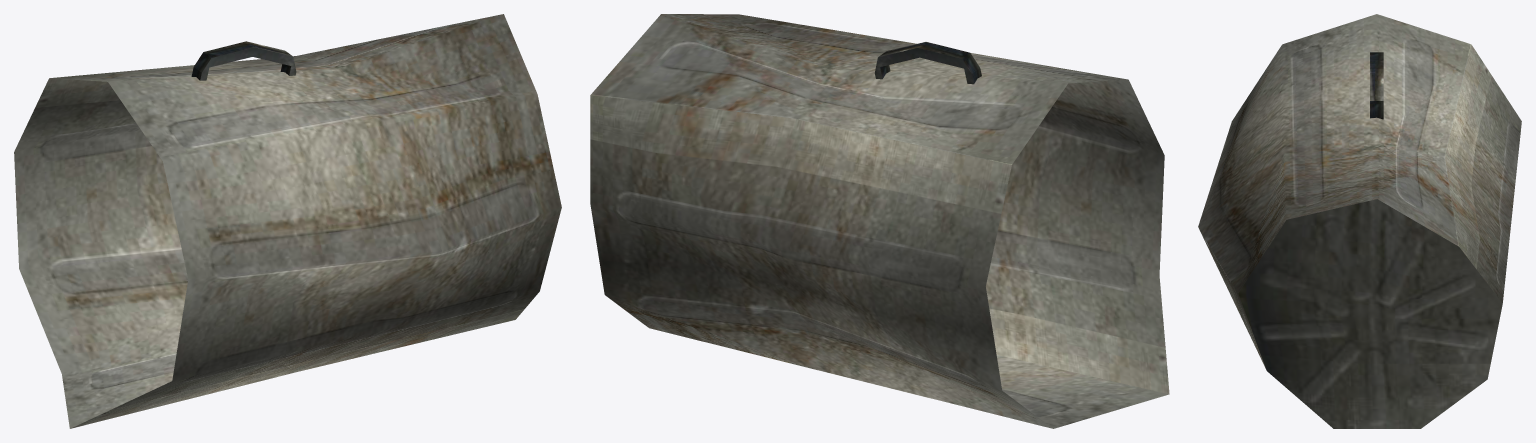
File: tonne2.obj
The picture shows the model from 3 angles, left to right: view 1: azimuth 30°, elevation 25°; view 2: azimuth 150°, elevation 25°; view 3: azimuth 270°, elevation 25°; orthographic projection. The views are drawn at different scales.
Visible parts, largest first — view 1: polySurface15; view 2: polySurface15; view 3: polySurface15.
Boxes of the visible parts, x1=… form: polySurface15: x1=14, y1=14, x2=561, y2=428; polySurface15: x1=590, y1=14, x2=1169, y2=428; polySurface15: x1=1198, y1=14, x2=1521, y2=428.
Size of the model in its own units: 0.5537 by 0.3441 by 0.3852.
1 material, 1 textured.
